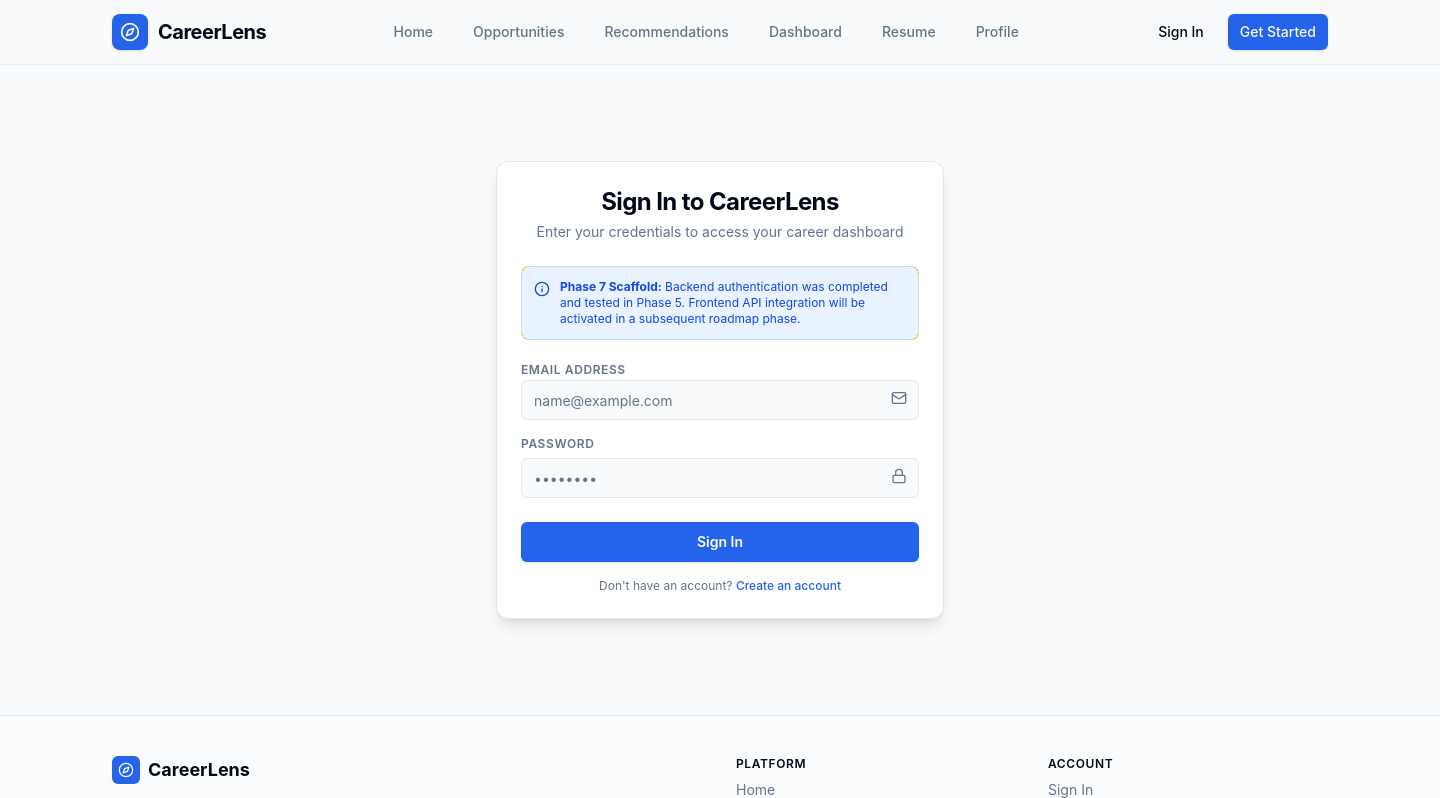
Test: CareerLens Application Shell & Routing › navigates to register page and displays password policy
Click the button "Get Started" at (1278,32), box [1228,14,1328,50]
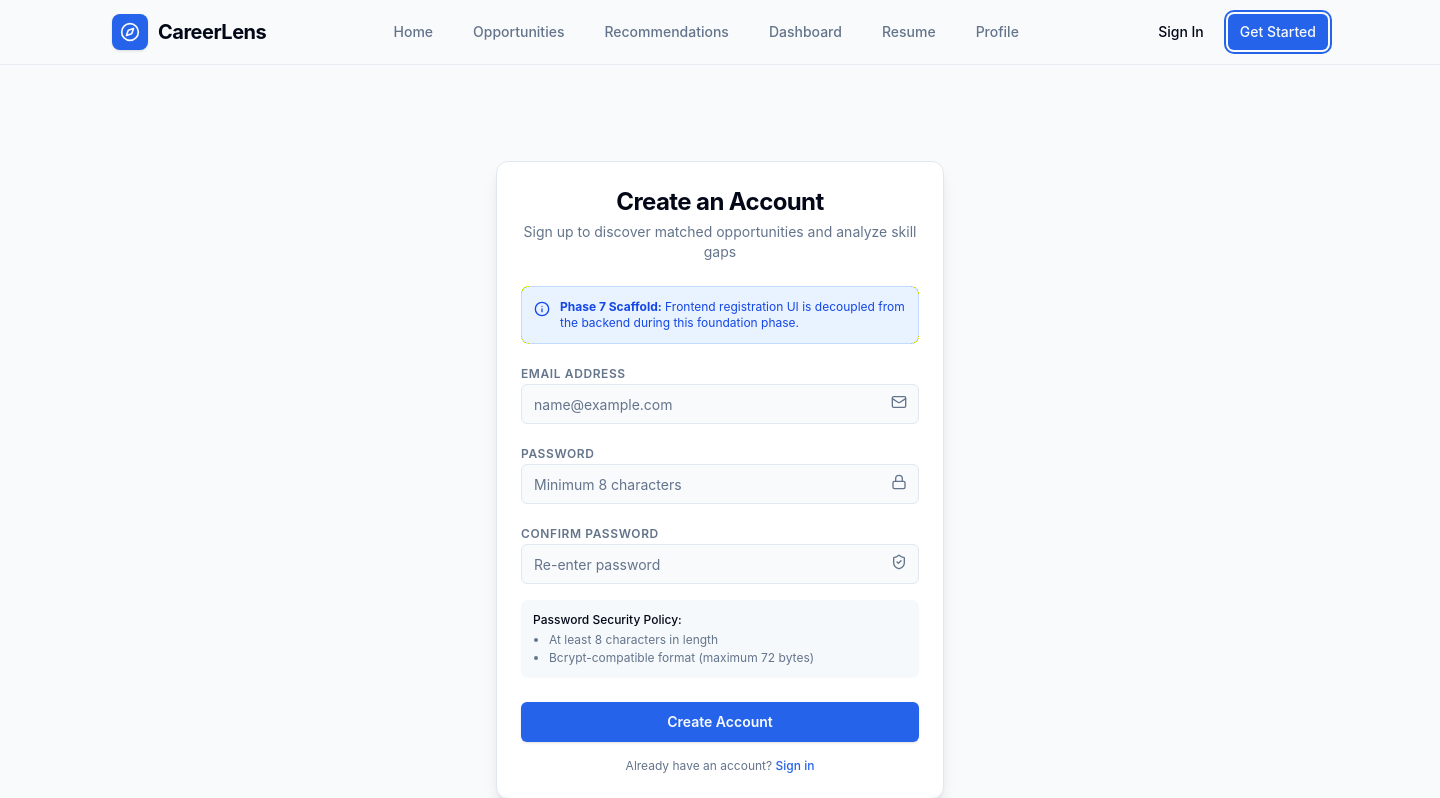
Result: the heading "Create an Account" is shown at [616,187,824,216]
Result: the text "Password Security Policy:" is shown at [533,612,682,627]
Result: the password field labelled "Confirm Password" is shown at [521,544,919,584]
